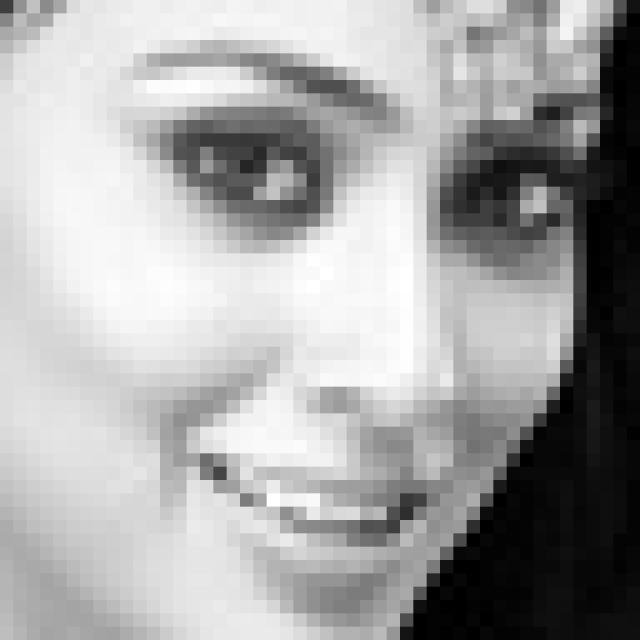happy: (134, 42, 585, 627)
